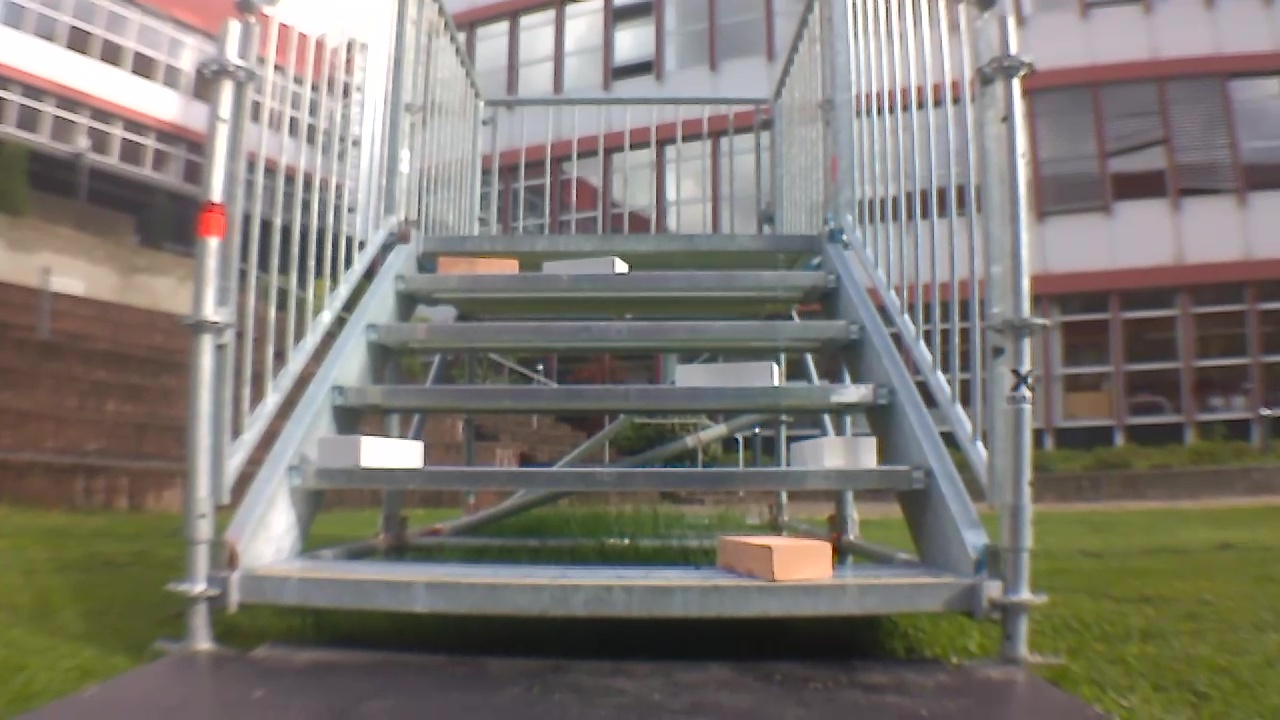brick: (719, 536, 830, 580), (318, 436, 424, 468), (791, 434, 877, 469), (674, 361, 777, 386), (542, 257, 628, 273), (441, 257, 517, 273)
edge: (239, 574, 972, 617), (331, 384, 898, 408), (294, 469, 927, 490), (368, 322, 863, 341), (395, 272, 836, 290), (420, 234, 821, 250)
stairs: (161, 4, 1043, 668)
steps: (229, 229, 978, 625)
